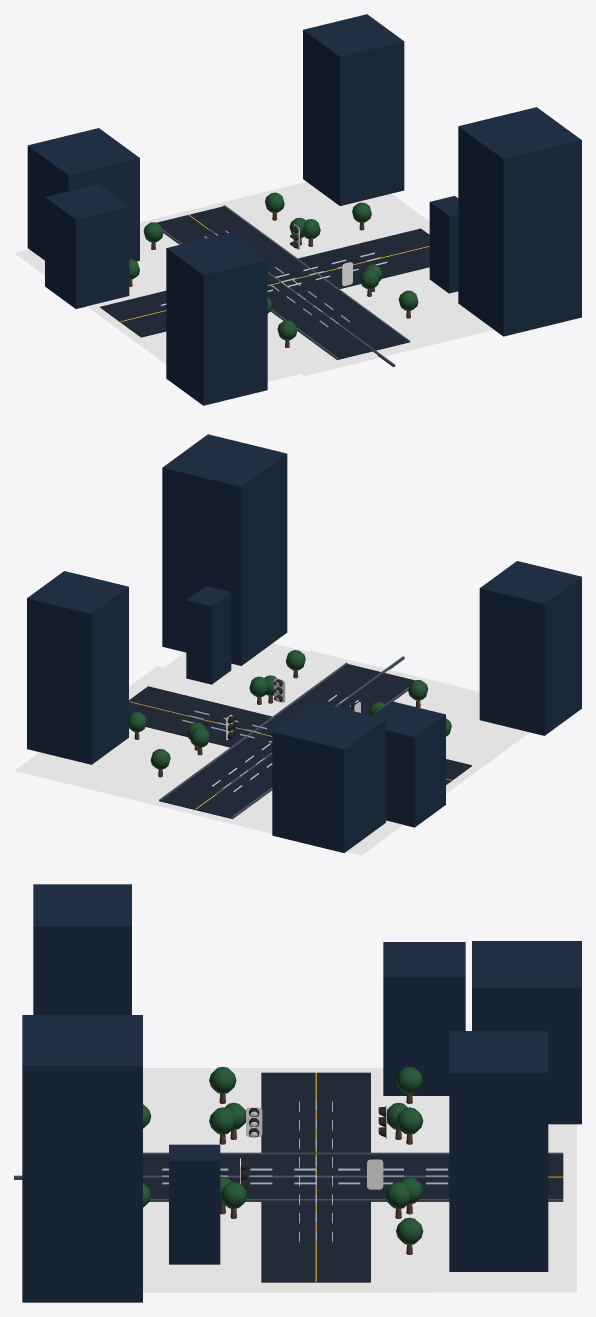
The picture shows the model from 3 angles, top to bottom: view 1: azimuth 30°, elevation 25°; view 2: azimuth 150°, elevation 25°; view 3: azimuth 270°, elevation 25°; orthographic projection. The views are drawn at different scales.
Visible parts, largest first — view 1: mesh_71, mesh_73, mesh_70, mesh_74, mesh_1, mesh_72, Plane_1, mesh_0, Plane, Plane_2, mesh_75, Plane_3 (+1 smaller); view 2: mesh_71, mesh_73, mesh_70, mesh_72, Plane_1, mesh_1, Plane_2, mesh_74, mesh_0, mesh_75, Plane, Plane_3 (+1 smaller); view 3: mesh_71, mesh_73, mesh_0, Plane_1, mesh_72, mesh_70, mesh_74, Plane, mesh_1, Plane_2, mesh_75, Plane_3 (+9 smaller).
Boxes of the visible parts, left/top/right/bottom form: mesh_71: left=458, top=107, right=581, bottom=336; mesh_73: left=303, top=14, right=404, bottom=205; mesh_70: left=166, top=232, right=267, bottom=405; mesh_74: left=45, top=184, right=129, bottom=308; mesh_1: left=157, top=206, right=408, bottom=359; mesh_72: left=27, top=128, right=139, bottom=261; Plane_1: left=140, top=182, right=440, bottom=329; mesh_0: left=100, top=228, right=429, bottom=337; Plane: left=14, top=193, right=399, bottom=356; Plane_2: left=156, top=237, right=454, bottom=381; mesh_75: left=429, top=196, right=458, bottom=293; Plane_3: left=302, top=287, right=493, bottom=376; mesh_71: left=162, top=434, right=287, bottom=665; mesh_73: left=27, top=571, right=128, bottom=764; mesh_70: left=479, top=561, right=581, bottom=735; mesh_72: left=272, top=701, right=385, bottom=852; Plane_1: left=14, top=666, right=272, bottom=830; mesh_1: left=160, top=664, right=414, bottom=818; Plane_2: left=169, top=650, right=529, bottom=793; mesh_74: left=372, top=701, right=445, bottom=827; mesh_0: left=129, top=686, right=472, bottom=784; mesh_75: left=186, top=586, right=231, bottom=684; Plane: left=195, top=694, right=504, bottom=855; Plane_3: left=164, top=643, right=308, bottom=687; mesh_71: left=22, top=1015, right=142, bottom=1302; mesh_73: left=449, top=1031, right=548, bottom=1271; mesh_0: left=261, top=1072, right=370, bottom=1282; Plane_1: left=198, top=1132, right=576, bottom=1292; mesh_72: left=472, top=941, right=581, bottom=1124; mesh_70: left=33, top=884, right=131, bottom=1014; mesh_74: left=383, top=942, right=465, bottom=1095; Plane: left=198, top=1068, right=576, bottom=1228; mesh_1: left=143, top=1154, right=563, bottom=1198; Plane_2: left=143, top=1068, right=434, bottom=1228; mesh_75: left=169, top=1144, right=220, bottom=1264; Plane_3: left=143, top=1228, right=432, bottom=1292.
Size of the model in its own units: 210 by 96.34 by 207.
